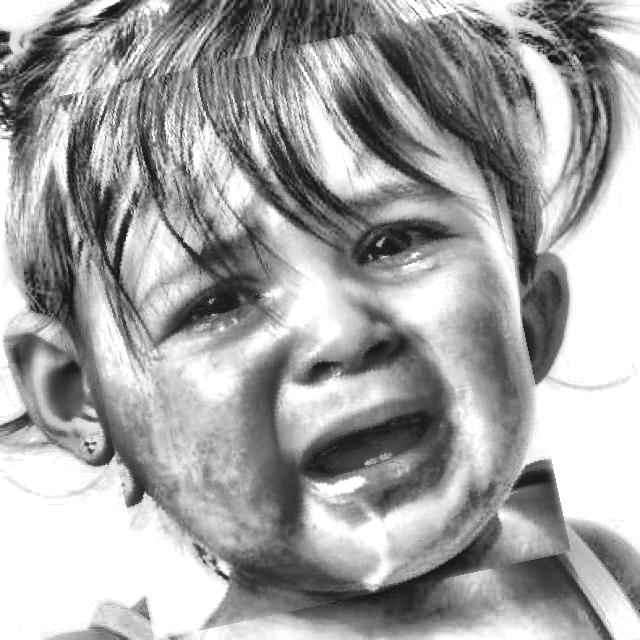sad: (67, 31, 545, 621)
